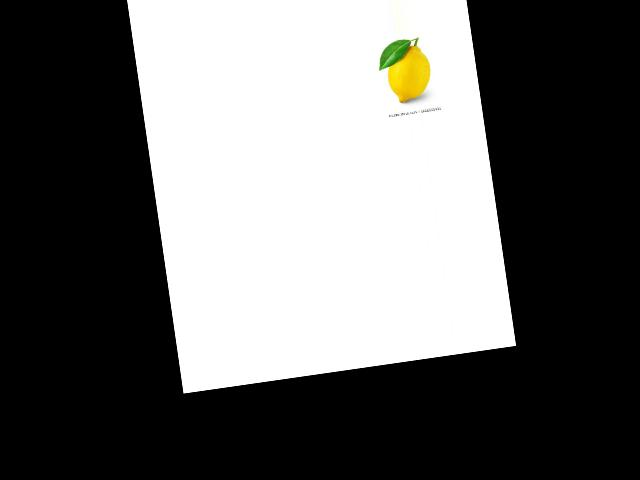lemon: (378, 41, 436, 105)
